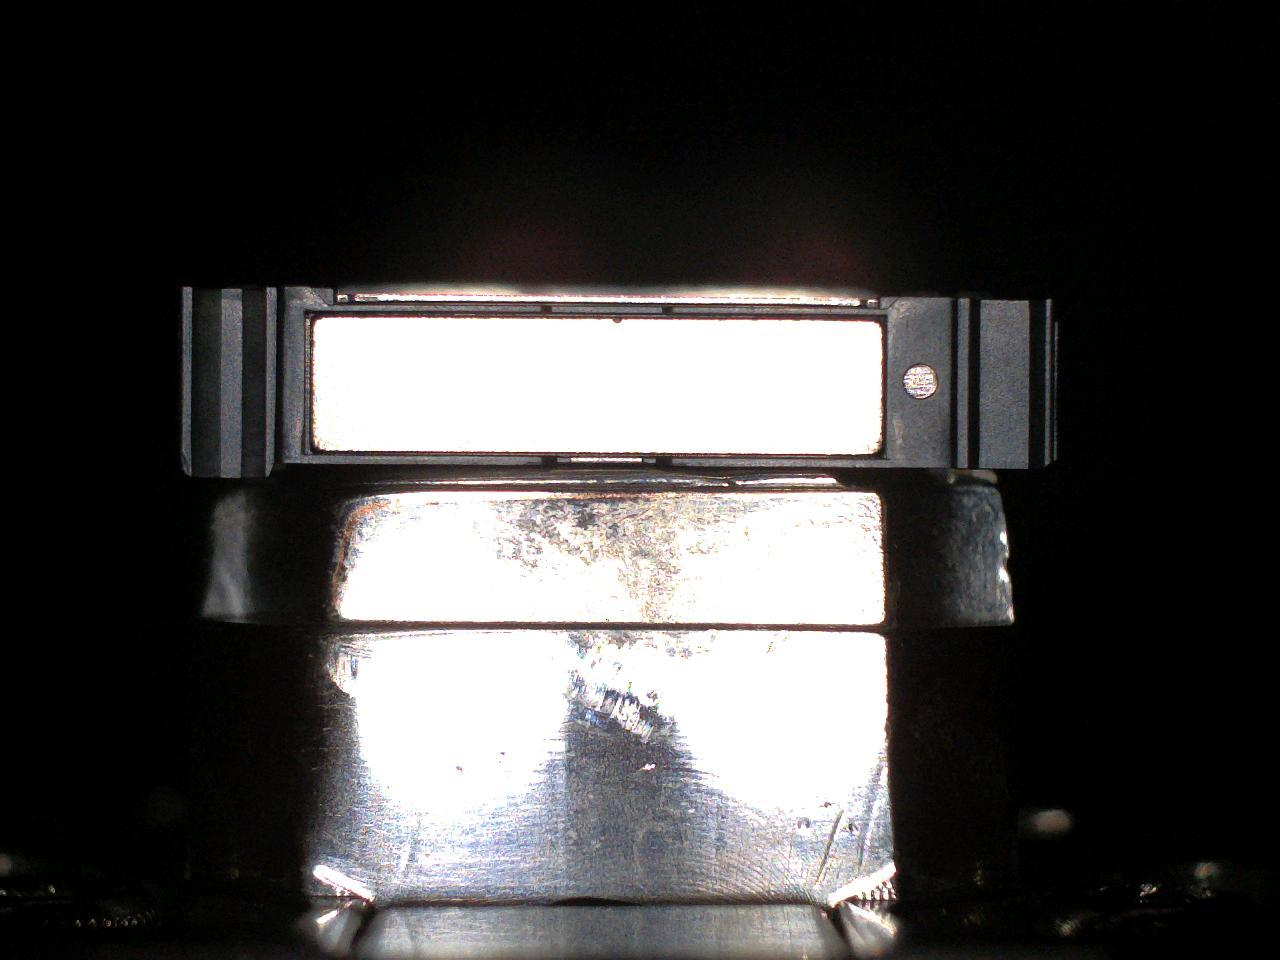frame: (180, 287, 1058, 477)
gap: (672, 452, 877, 460), (315, 311, 543, 318), (673, 313, 881, 320), (308, 451, 542, 457), (555, 452, 656, 458), (552, 314, 662, 319)
magnetic: (313, 318, 882, 453)
